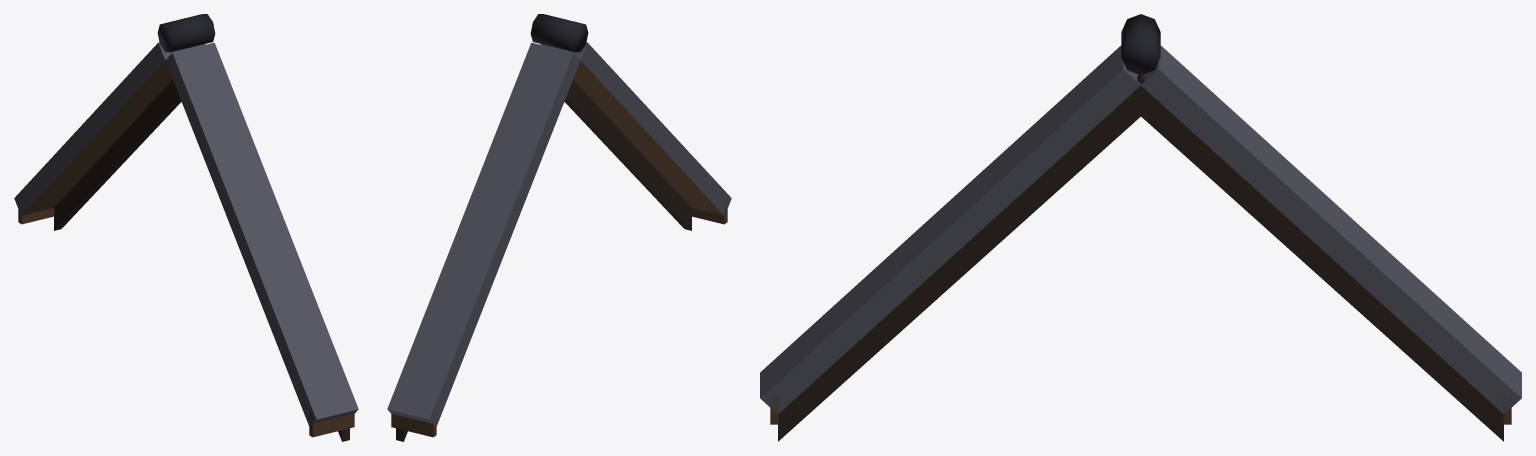
File: kit_stone_slate_w2_end.glb
3 renders of one model, left to right at view 1: azimuth 30°, elevation 25°; view 2: azimuth 150°, elevation 25°; view 3: azimuth 270°, elevation 25°, orthographic. The views are drawn at different scales.
Parts seen in each view (by area): view 1: kit_stone_slate_w2_end; view 2: kit_stone_slate_w2_end; view 3: kit_stone_slate_w2_end.
Part boxes in pixels (left/top/right/bottom): kit_stone_slate_w2_end: left=14, top=14, right=358, bottom=441; kit_stone_slate_w2_end: left=387, top=14, right=731, bottom=441; kit_stone_slate_w2_end: left=760, top=14, right=1521, bottom=441.
Bounding box in the file's own units: 0.22 × 1.59 × 2.73.
